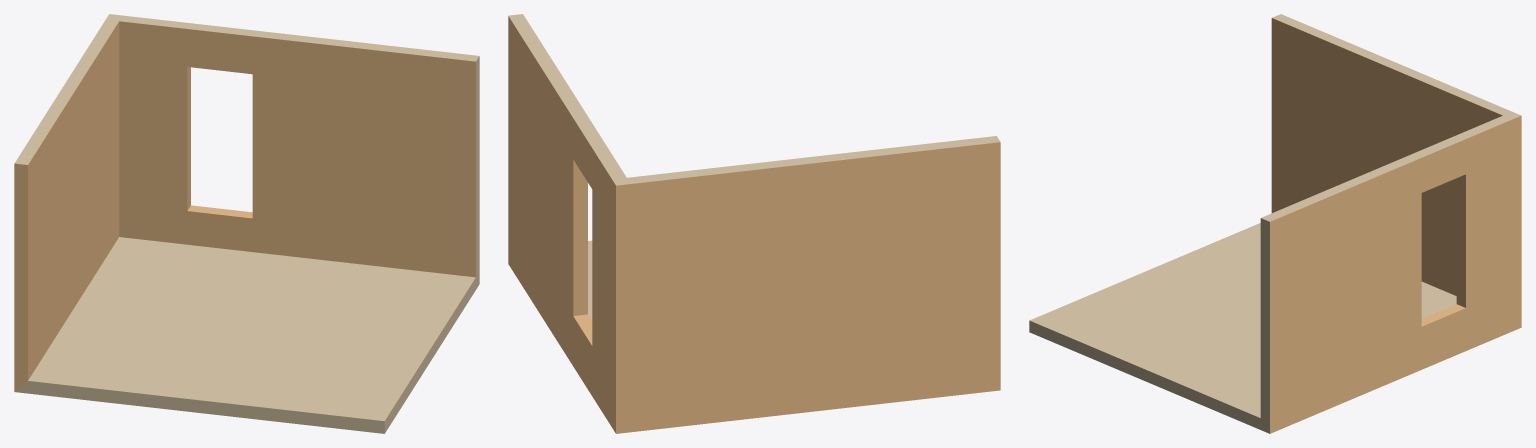
The model's file is roomMobile.glb.
3 renders of one model, left to right at view 1: azimuth 30°, elevation 25°; view 2: azimuth 150°, elevation 25°; view 3: azimuth 270°, elevation 25°, orthographic. The views are drawn at different scales.
Parts seen in each view (by area): view 1: Cube; view 2: Cube; view 3: Cube.
Part boxes in pixels (x1,y1,x2,y2): Cube: [14, 14, 479, 433]; Cube: [508, 14, 1000, 433]; Cube: [1029, 14, 1521, 433].
Bounding box in the file's own units: 4.46 × 2.12 × 4.46.
